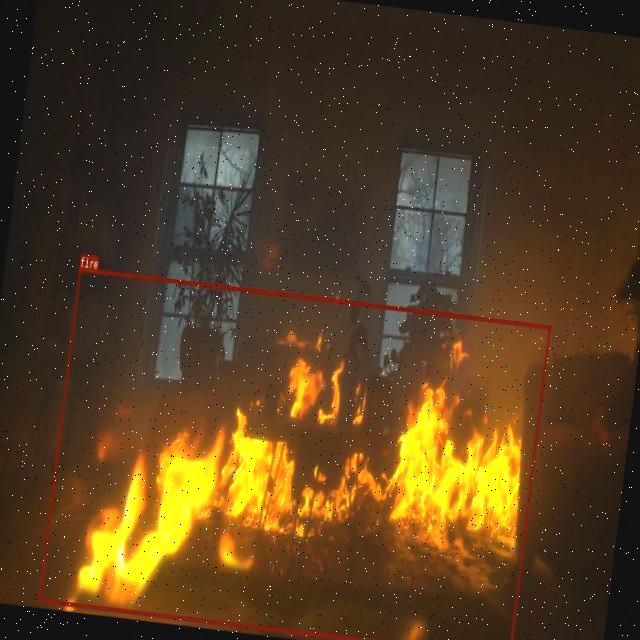fire: (37, 266, 551, 640)
